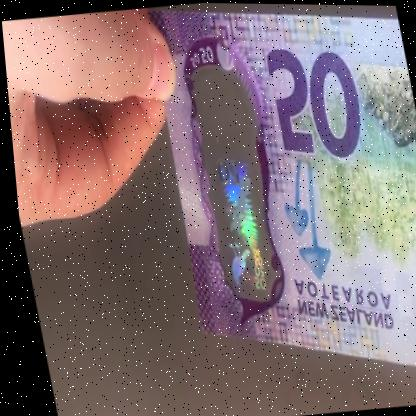50B: (189, 79, 274, 295)
